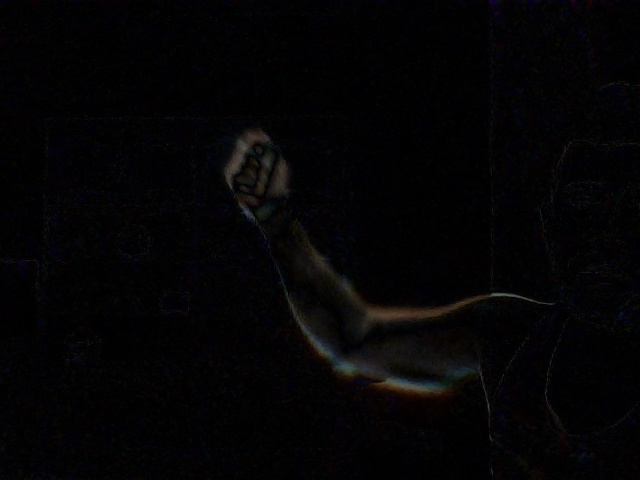hand_fi: (220, 121, 295, 222)
